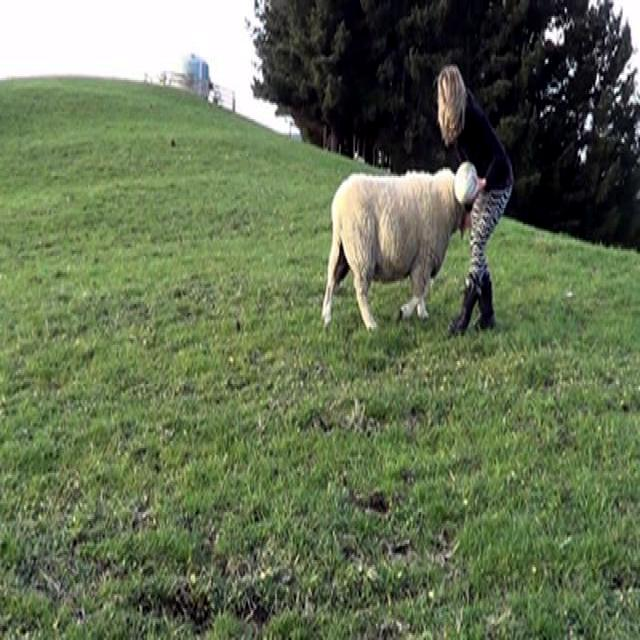sheep: (321, 169, 480, 329)
